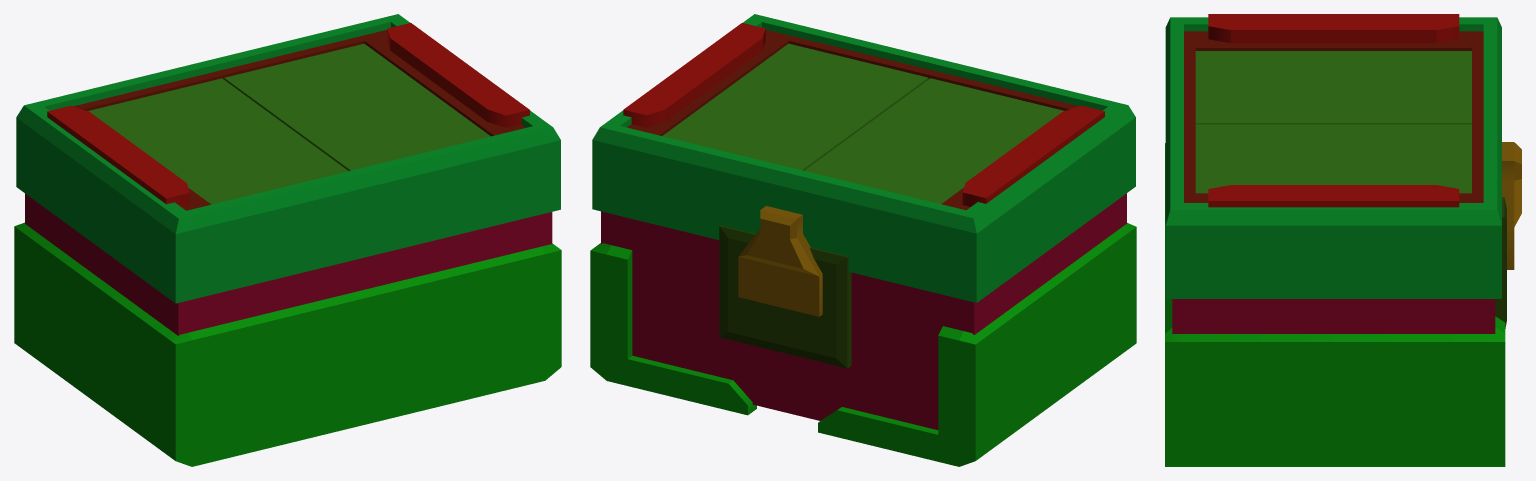
3 renders of one model, left to right at view 1: azimuth 30°, elevation 25°; view 2: azimuth 150°, elevation 25°; view 3: azimuth 270°, elevation 25°, orthographic. The views are drawn at different scales.
Parts seen in each view (by area): view 1: Box001; view 2: Box001; view 3: Box001.
Part boxes in pixels (x1,y1,x2,y2): Box001: (14,14,561,466); Box001: (590,14,1136,466); Box001: (1165,14,1521,466).
Bounding box in the file's own units: 21.32 × 13.43 × 16.18.
